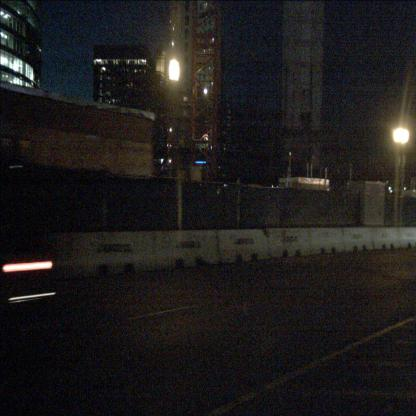movable_object-barrier: (51, 231, 156, 273), (152, 230, 220, 266), (215, 228, 271, 264), (264, 227, 312, 257), (307, 227, 345, 254), (341, 226, 374, 251), (370, 227, 401, 248), (396, 226, 416, 249)
